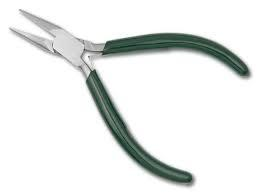pliers: (8, 7, 249, 182)
